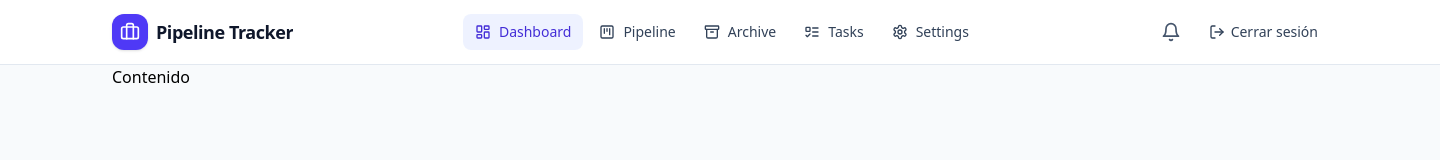
Test: AppShell — cierre de sesión › muestra un error con role=alert si el cierre falla y no navega
Click the button "Cerrar sesión" at (1263, 32), box [1199,14,1328,50]
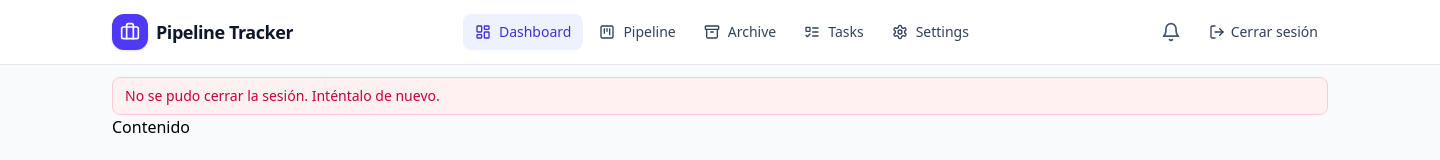
Expected: the message "No se pudo cerrar la sesión. Inténtalo de nuevo." is shown, [80,65,1360,115]
